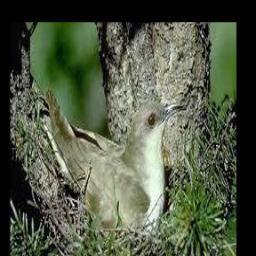Cuckoo: (47, 88, 188, 235)
